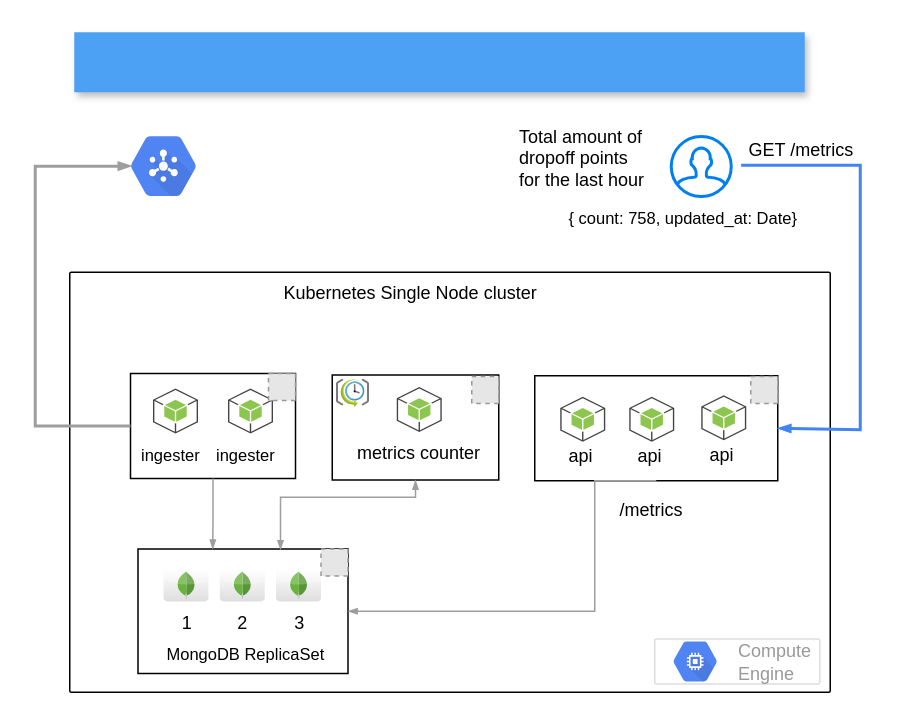
This 906x719 diagram has some shape labels left out. Grey dashed boxes stand in for pictures. Each missing label, with the centre of its shape:
Cloud Pub/Sub: pixel 162 165
Taxi Trip data processing: pixel 440 64
